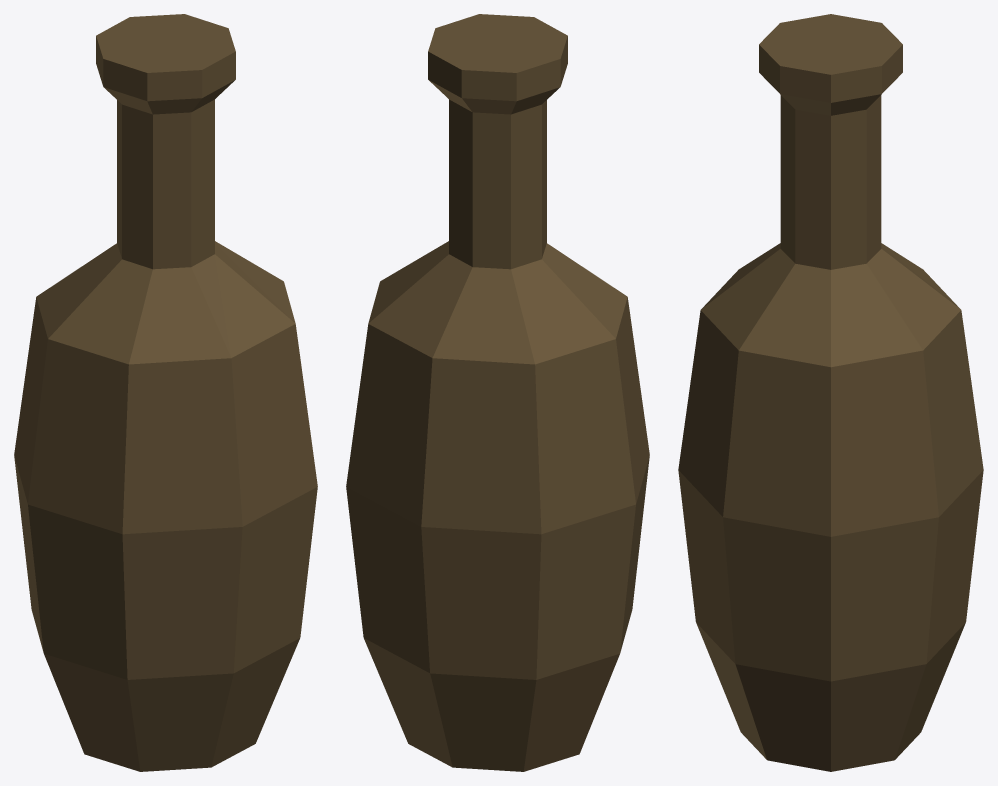
File: ITFO_BOOZE.OBJ
3 views of the same model, side by side, from view 1: azimuth 30°, elevation 25°; view 2: azimuth 150°, elevation 25°; view 3: azimuth 270°, elevation 25° (orthographic).
Visible parts, largest first — view 1: ITFO_BOOZE; view 2: ITFO_BOOZE; view 3: ITFO_BOOZE.
Part boxes in pixels (x1=…): ITFO_BOOZE: x1=14, y1=14, x2=317, y2=771; ITFO_BOOZE: x1=346, y1=14, x2=649, y2=771; ITFO_BOOZE: x1=678, y1=14, x2=983, y2=771.
Bounding box in the file's own units: 0.1256 × 0.3002 × 0.1208.
